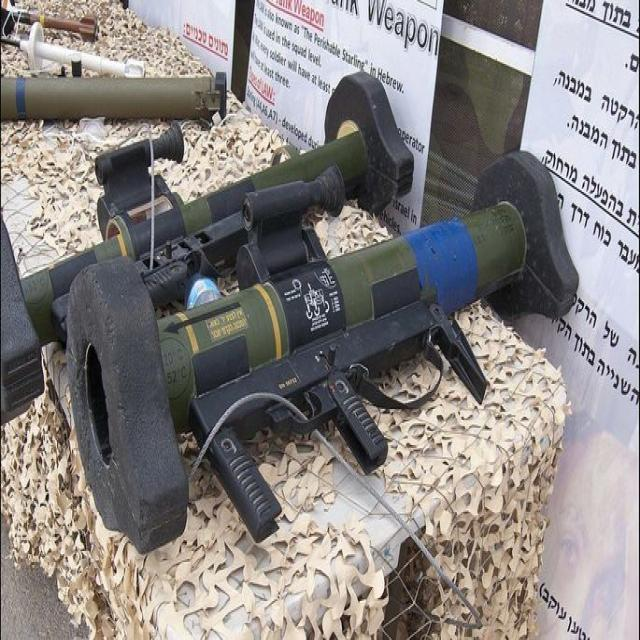bazooka: (55, 65, 583, 552)
